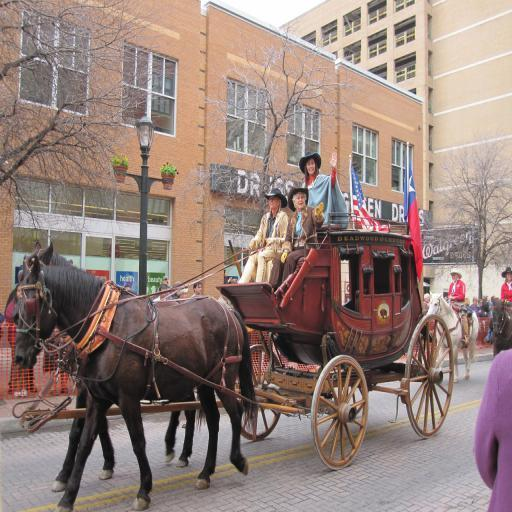horse: (10, 252, 260, 512), (11, 240, 208, 494), (424, 288, 480, 382), (491, 293, 511, 360)
